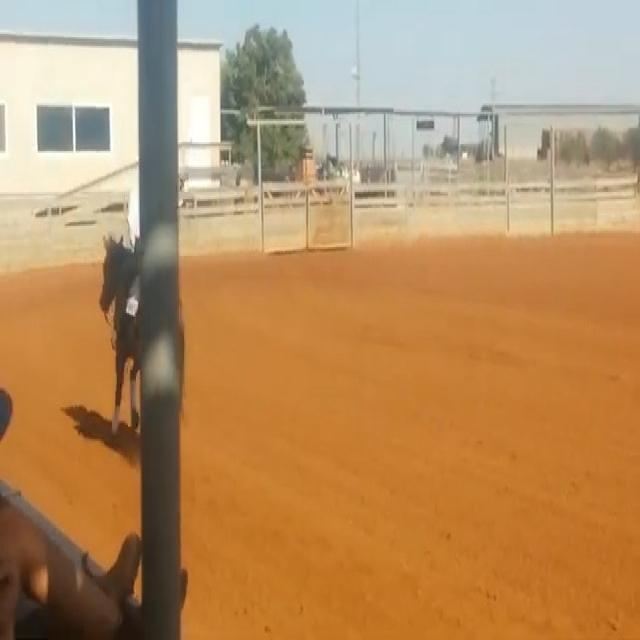horse: (96, 230, 185, 438)
